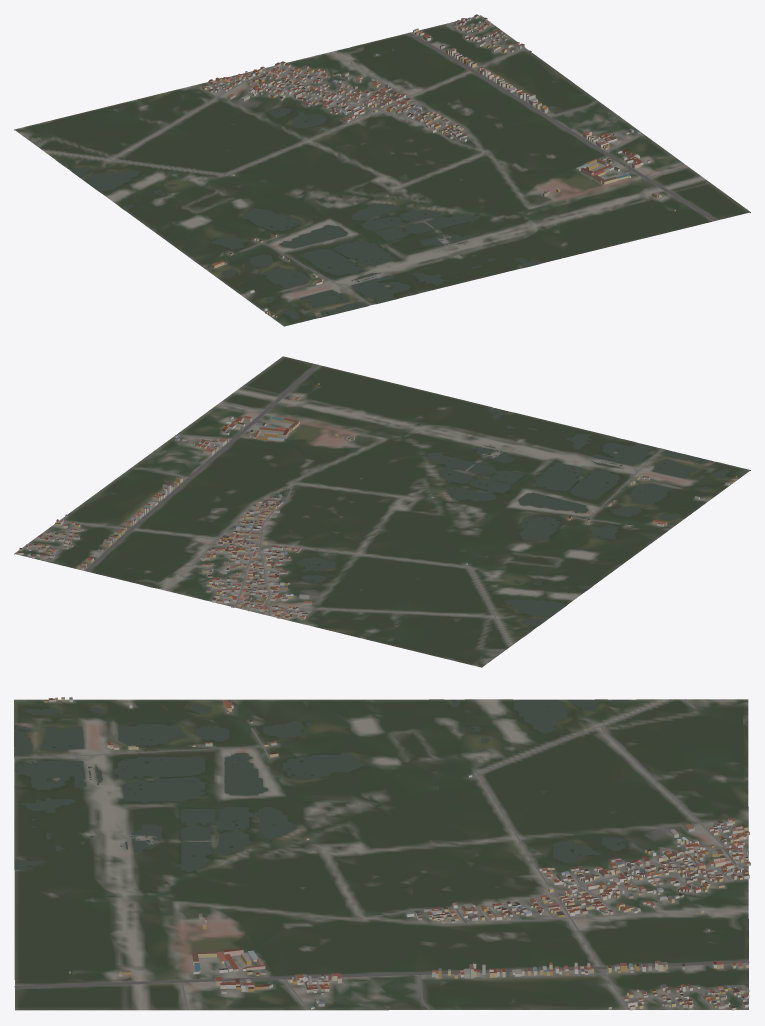
3 renders of one model, top to bottom at view 1: azimuth 30°, elevation 25°; view 2: azimuth 150°, elevation 25°; view 3: azimuth 270°, elevation 25°, orthographic. The views are drawn at different scales.
Visible parts, largest first — view 1: ground, water, buildings, roads; view 2: ground, water, buildings, roads; view 3: ground, water, buildings, roads.
Boxes of the visible parts, x1=… form: ground: x1=14, y1=15, x2=750, y2=326; water: x1=58, y1=48, x2=540, y2=319; buildings: x1=202, y1=14, x2=675, y2=317; roads: x1=37, y1=22, x2=717, y2=304; ground: x1=14, y1=356, x2=750, y2=667; water: x1=148, y1=408, x2=730, y2=635; buildings: x1=18, y1=383, x2=737, y2=619; roads: x1=38, y1=364, x2=662, y2=650; ground: x1=14, y1=699, x2=748, y2=1010; water: x1=14, y1=699, x2=748, y2=921; buildings: x1=44, y1=697, x2=750, y2=1010; roads: x1=14, y1=699, x2=749, y2=1010.
Bounding box in the file's own units: 1406 × 26.3 × 1407.
